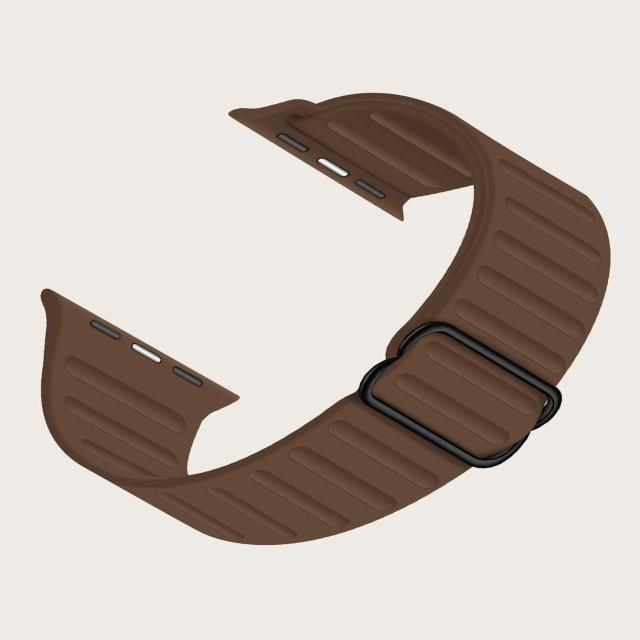bracelet: (8, 30, 640, 565)
